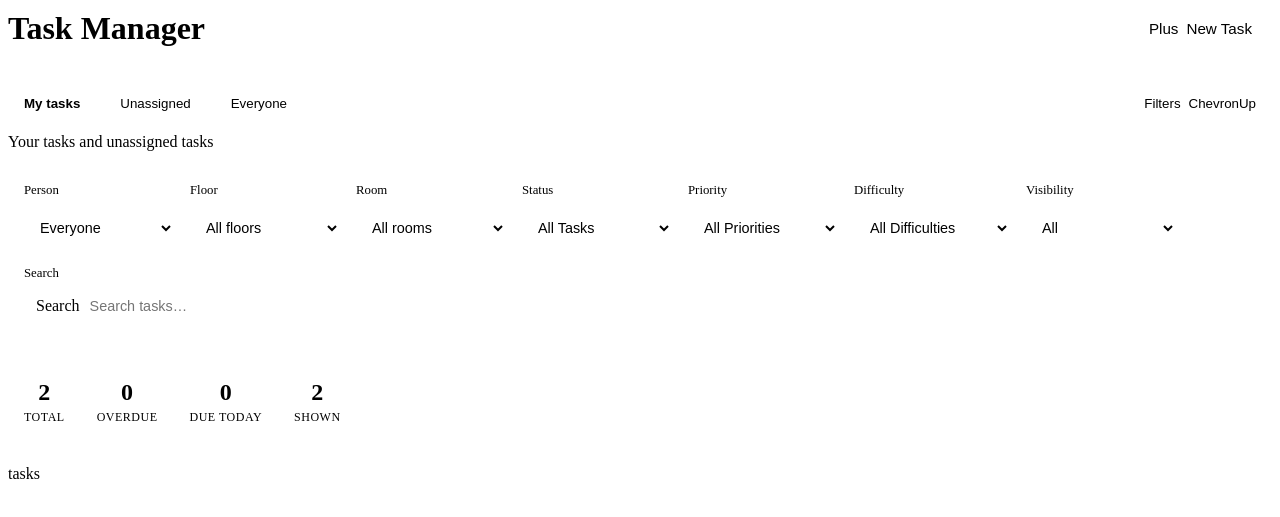
Test: TaskManager › prefills the create form from a room filter
Select "Kitchen" in the dropdown with test id "room-filter": {"x": 431, "y": 228} top-left (356, 206), bottom-right (506, 250)
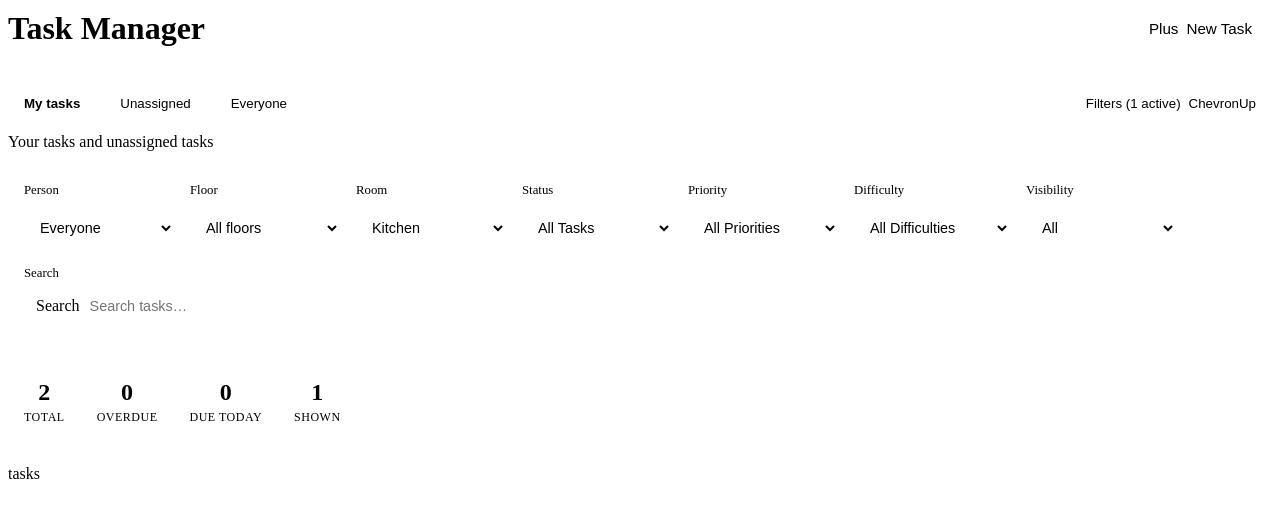
Click the button with test id "add-task-button": {"x": 1200, "y": 28} top-left (1129, 8), bottom-right (1272, 49)
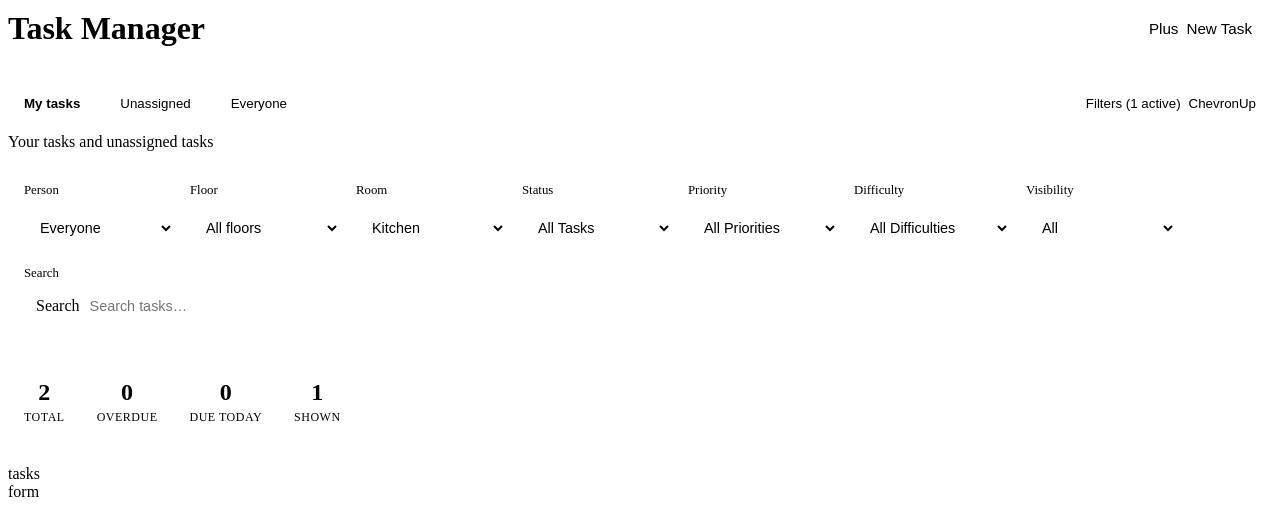
expect the text "form" is shown: met, box top-left (8, 483), bottom-right (39, 500)
